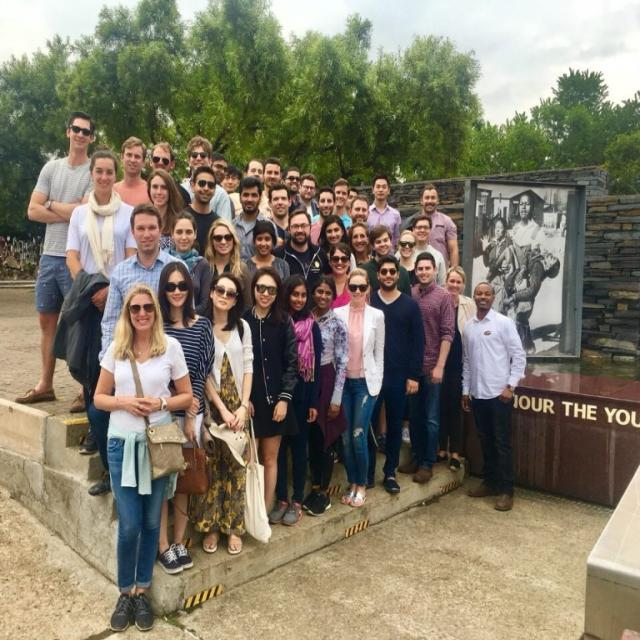body: (86, 279, 196, 632), (12, 110, 98, 414), (63, 148, 138, 456), (149, 261, 218, 576), (196, 272, 256, 556), (96, 202, 191, 380), (361, 255, 428, 496), (459, 279, 528, 513), (396, 249, 459, 487), (242, 264, 300, 518), (328, 267, 388, 511), (268, 272, 324, 527), (478, 187, 566, 347), (357, 224, 415, 454), (297, 272, 348, 519), (434, 264, 478, 472), (160, 209, 212, 316), (202, 216, 256, 318), (398, 184, 460, 270), (178, 134, 234, 228), (238, 219, 291, 317), (269, 207, 333, 288), (229, 175, 279, 262), (394, 214, 448, 288), (182, 165, 222, 257), (146, 167, 188, 250), (362, 173, 402, 259), (112, 135, 153, 208), (148, 141, 192, 209), (227, 157, 274, 220), (308, 185, 352, 248), (314, 212, 357, 272), (311, 176, 353, 230), (322, 240, 353, 310), (208, 152, 237, 226), (265, 181, 293, 248), (394, 229, 424, 289), (258, 158, 284, 220), (292, 170, 322, 220), (280, 166, 308, 217), (347, 222, 374, 274), (345, 194, 375, 234), (219, 166, 245, 195), (346, 186, 360, 209)
